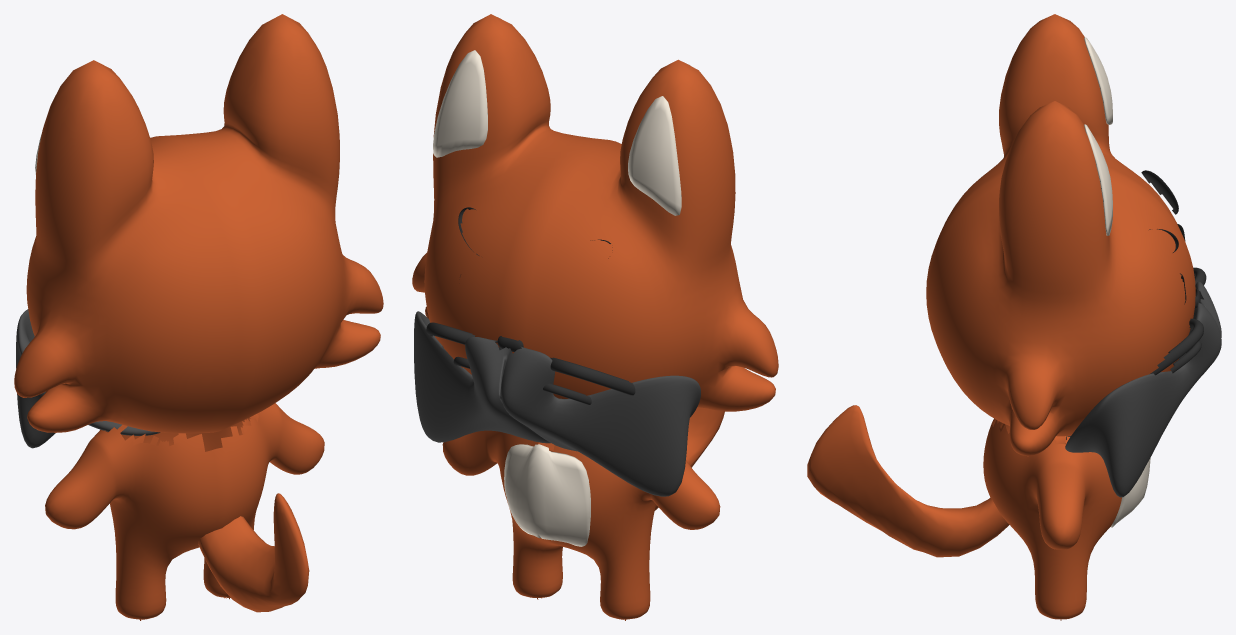
Rendered from turbotailsV2.fbx.
3 renders of one model, left to right at view 1: azimuth 30°, elevation 25°; view 2: azimuth 150°, elevation 25°; view 3: azimuth 270°, elevation 25°, orthographic. The views are drawn at different scales.
Visible parts, largest first — view 1: Cube.004; view 2: Cube.004; view 3: Cube.004.
Part boxes in pixels (box(x1,y1,x2,y2)): Cube.004: box(14, 14, 383, 620); Cube.004: box(412, 14, 778, 620); Cube.004: box(807, 14, 1221, 620).
Bounding box in the file's own units: 267 × 402 × 278.
